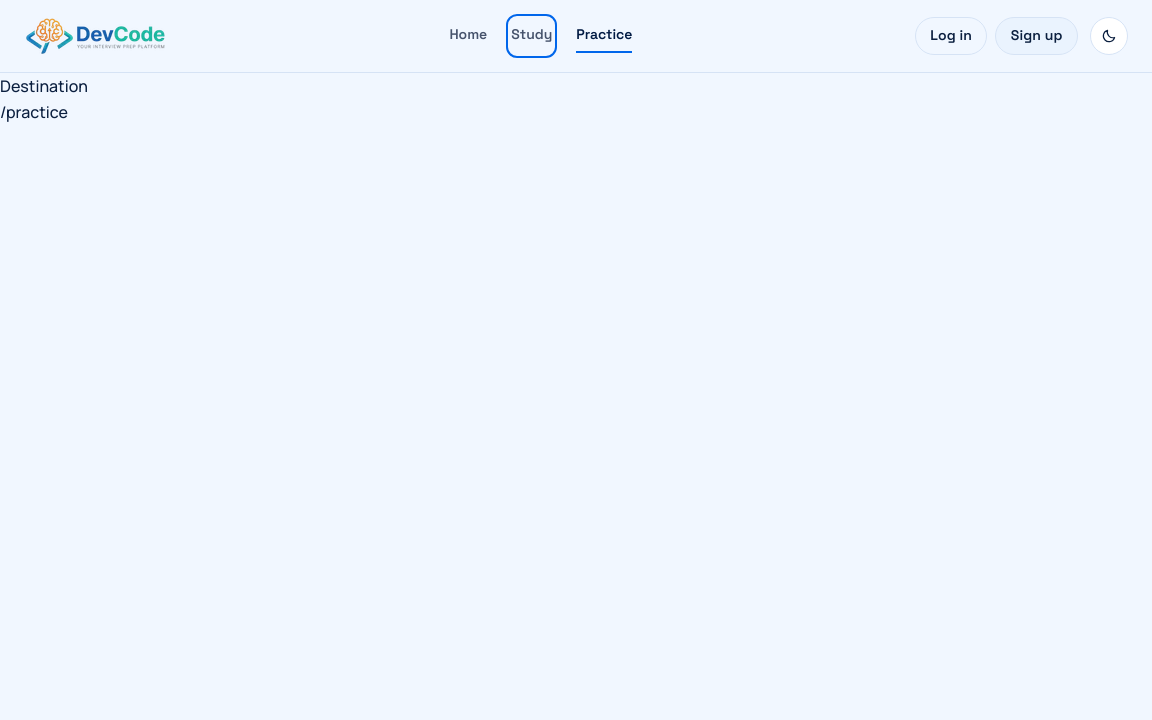
Test: navigation guard › navigates to Study when Leave quiz is clicked
Click the link "Study": x=532, y=34 left=511, top=26, right=552, bottom=44
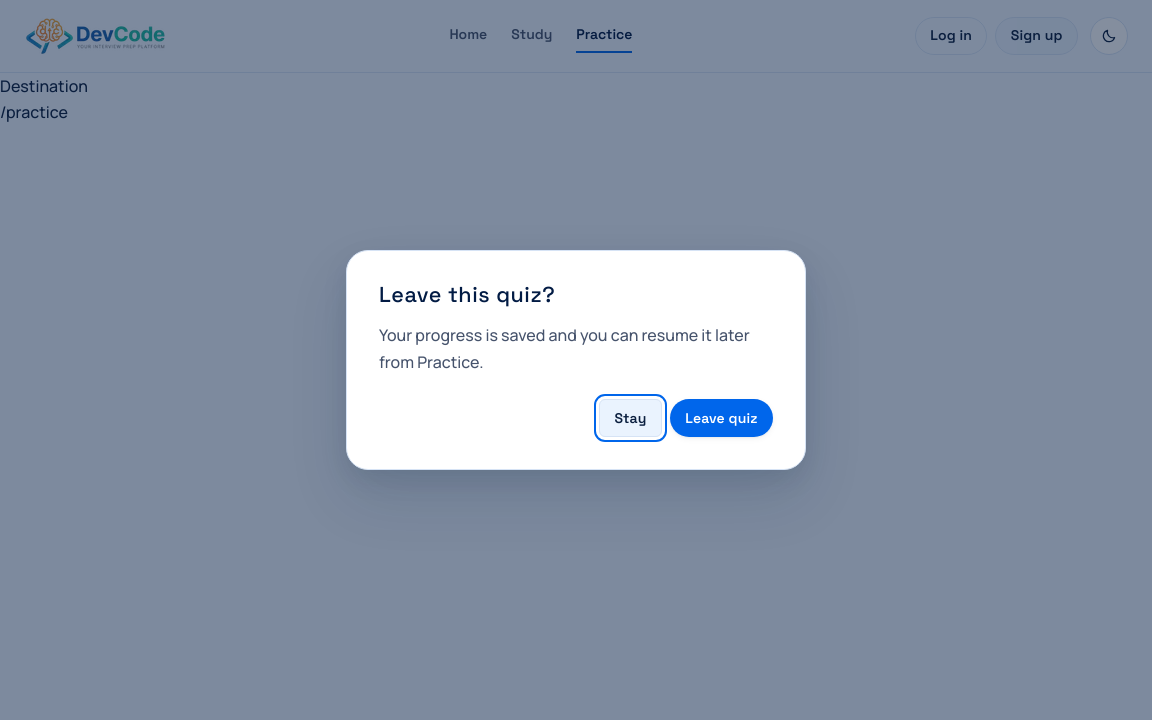
Click the button "Leave quiz": x=721, y=418 left=670, top=399, right=773, bottom=437
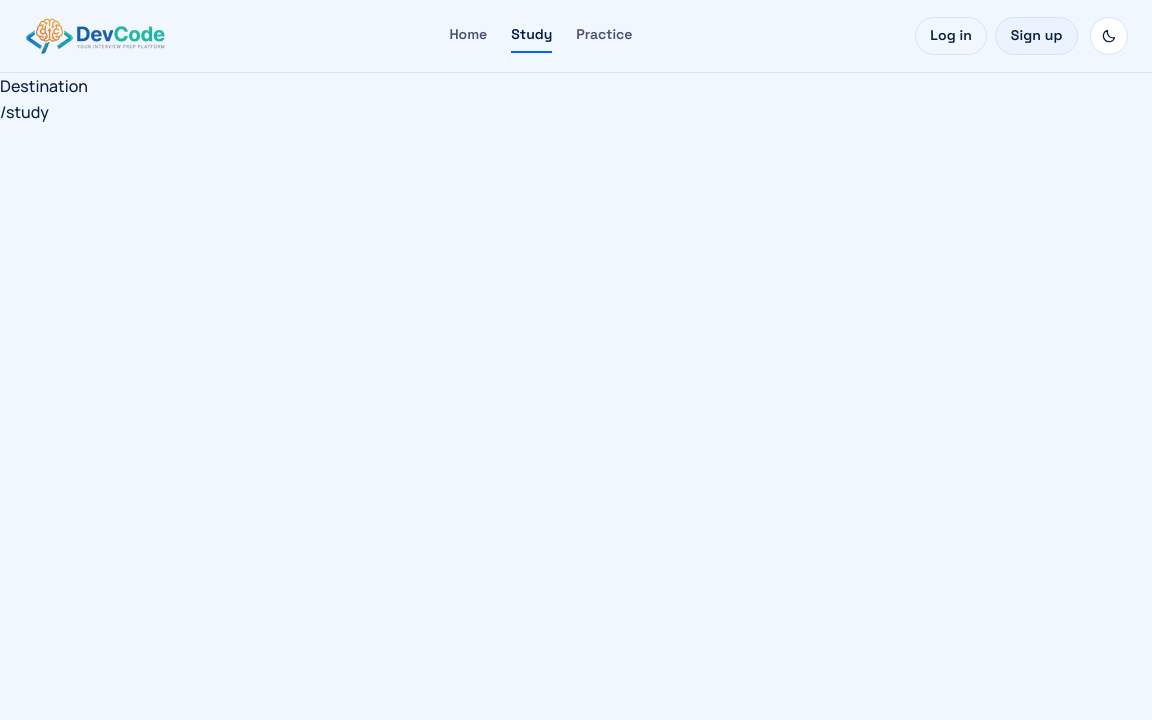
Expected: the dialog is gone
Expected: the text with test id "location" reads "/study", left=0, top=101, right=49, bottom=123
